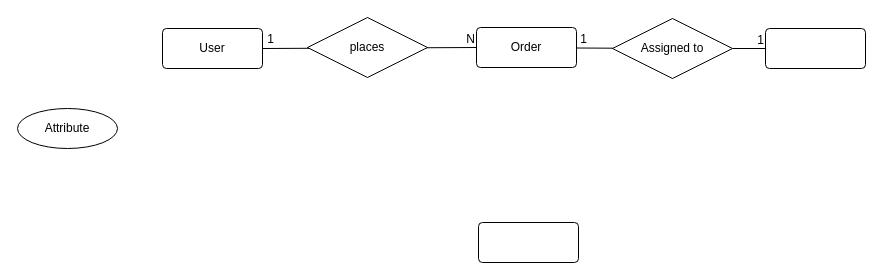
This 883x280 diagram has some shape labels left out. Here are the shapes that lost their labels. From the top down, the centre of each, then its label:
At point 815,48: "Driver".
At point 528,242: "Status".
